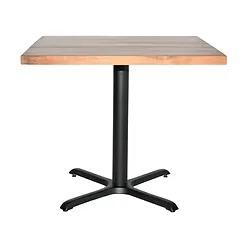Clean Table: (6, 16, 243, 97)
